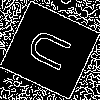U: (25, 25, 82, 79)
